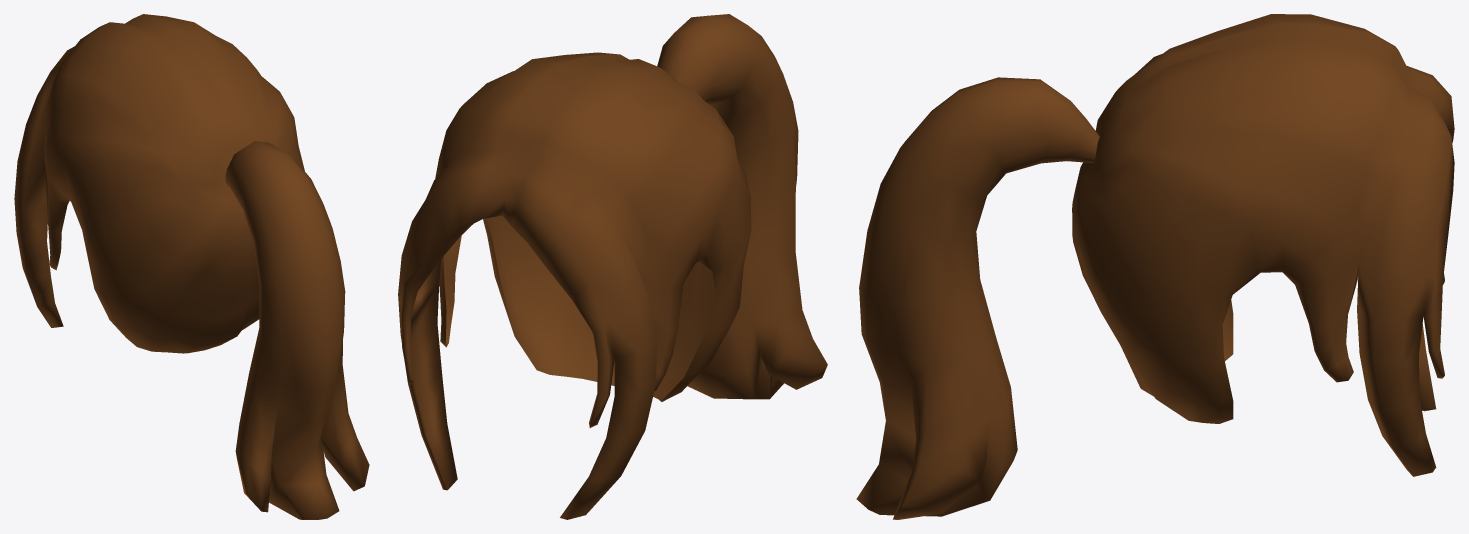
File: Hair_Female_002.glb
3 renders of one model, left to right at view 1: azimuth 30°, elevation 25°; view 2: azimuth 150°, elevation 25°; view 3: azimuth 270°, elevation 25°, orthographic. The views are drawn at different scales.
Parts seen in each view (by area): view 1: Hair_Female_002; view 2: Hair_Female_002; view 3: Hair_Female_002.
Part boxes in pixels (x1,y1,x2,y2): Hair_Female_002: [14, 14, 369, 519]; Hair_Female_002: [398, 14, 827, 519]; Hair_Female_002: [856, 14, 1454, 519].
Bounding box in the file's own units: 0.1741 × 0.2888 × 0.3282.
